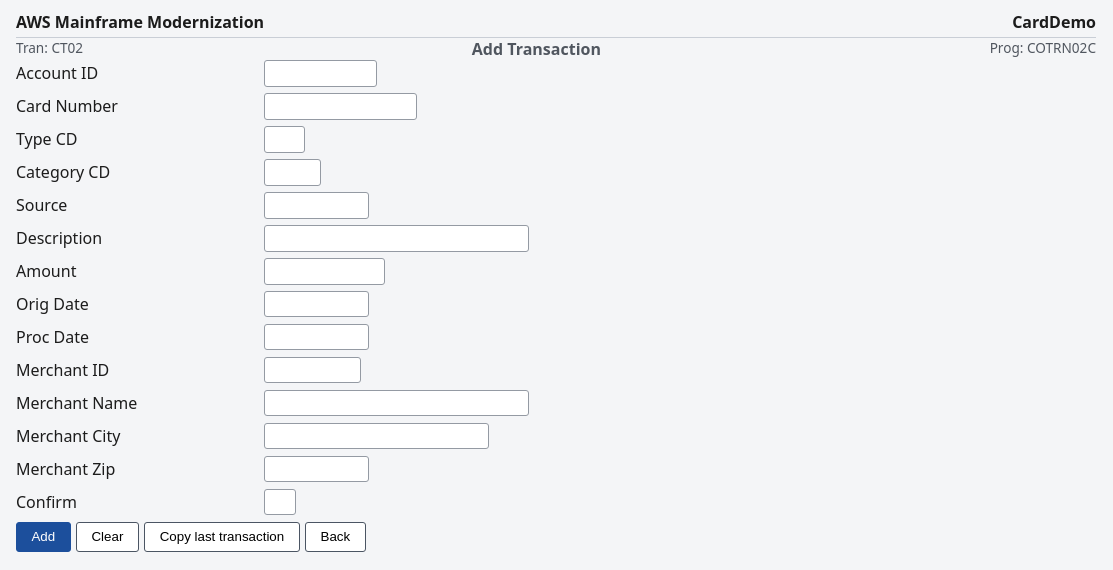
Test: Transaction add screen › prefills the map from the last transaction, as PF5 did
Type "00000000009" into the field labelled "Account ID".
click(320, 73); type("00000000009")  # box [264,60,377,87]
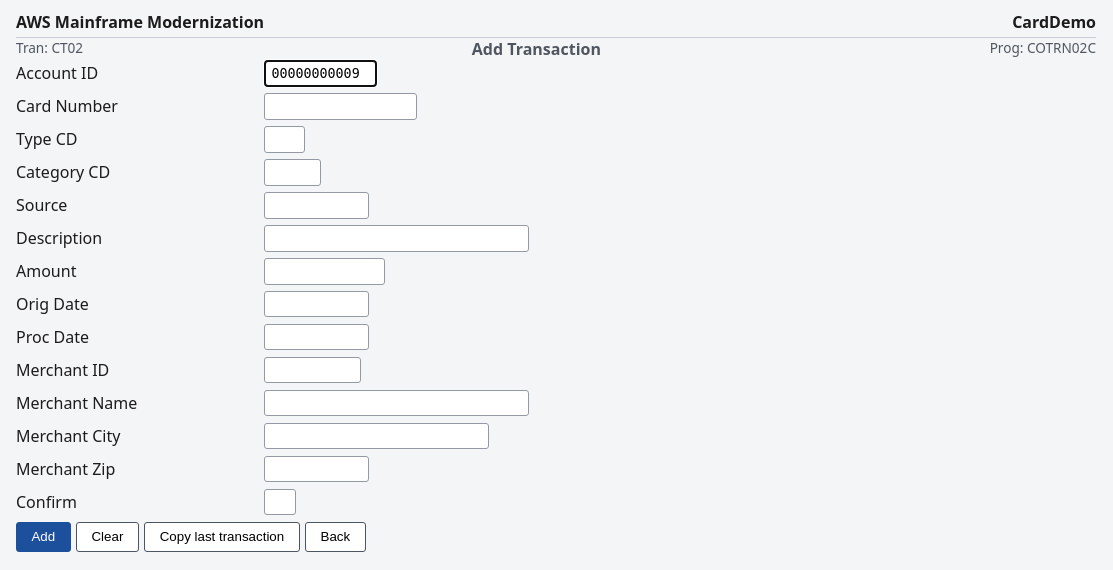
Click the button "Copy last transaction".
click(222, 537)  # box [144,522,300,552]
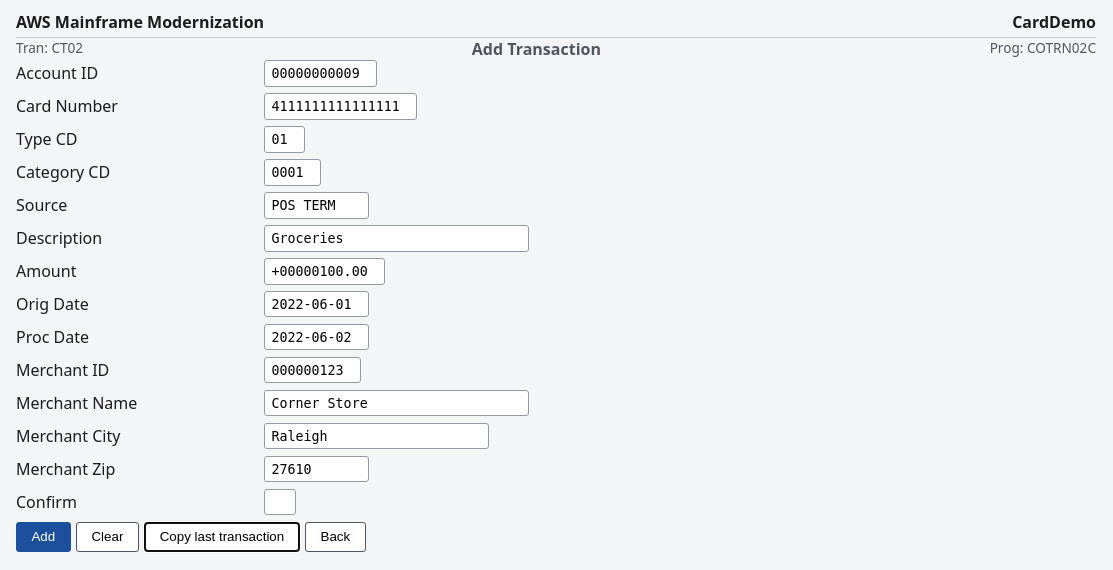
Expected: the field labelled "Confirm" is empty, [264,489,296,515]
Result: the field labelled "Description" holds "Groceries" at [264,225,529,252]
